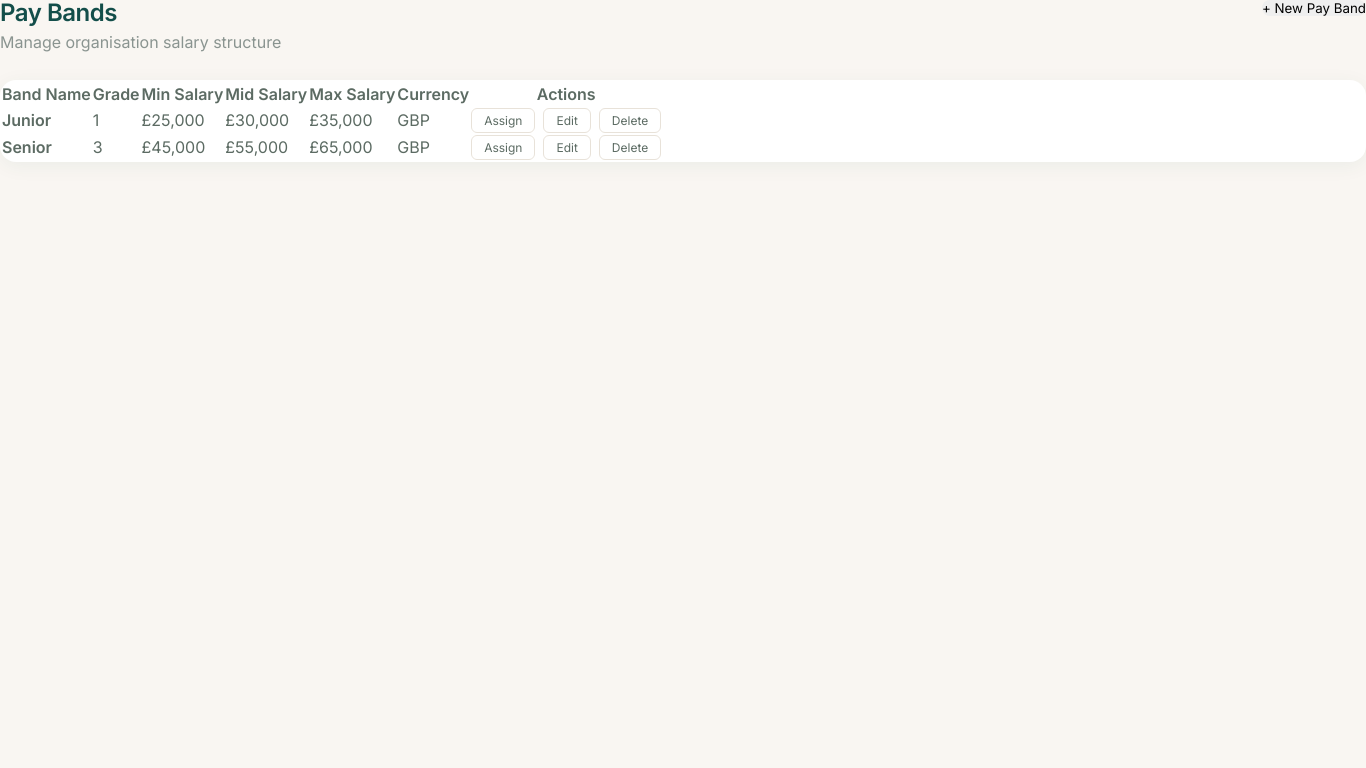
Test: PayBandManager › opens edit modal when Edit button clicked
Click the button "Edit" in the row of "Junior": point(567, 120) [544, 108, 591, 133]
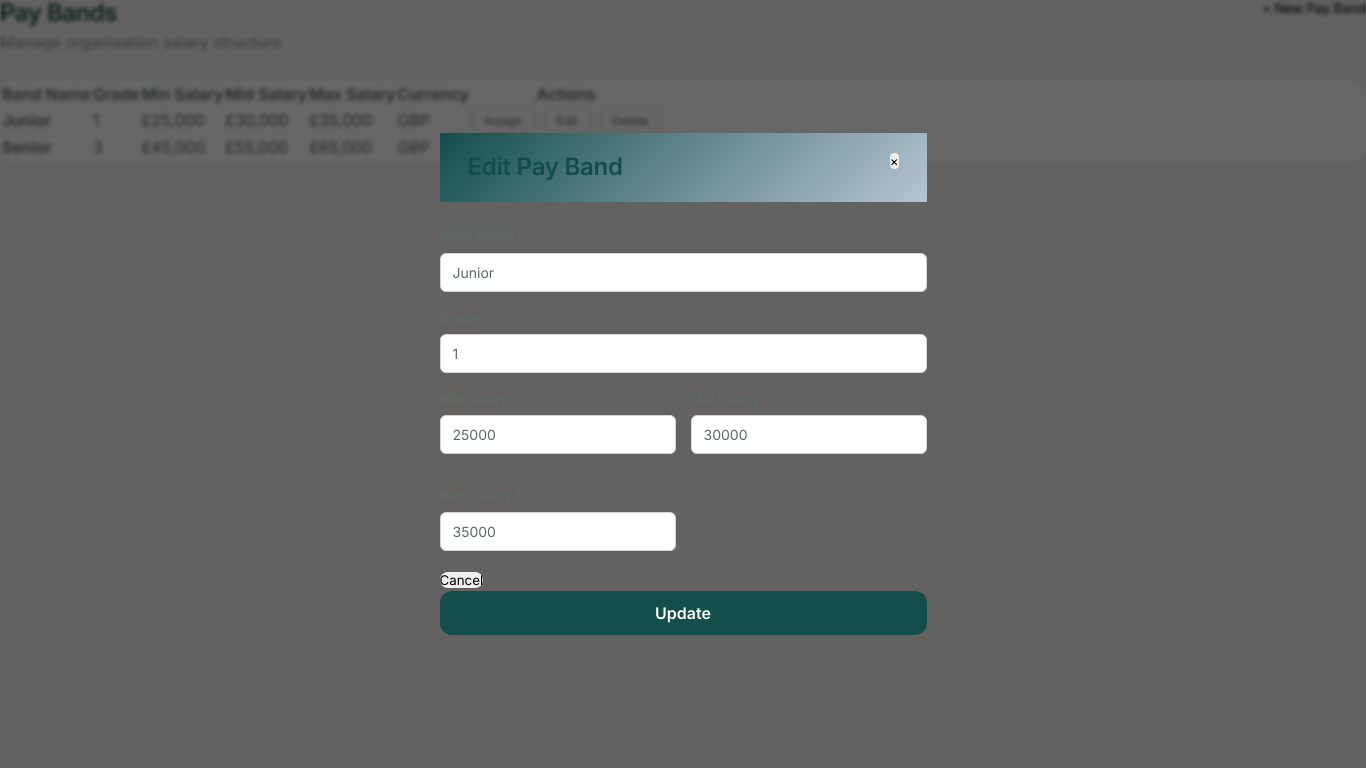
Check: the heading "Edit Pay Band" is shown, box [468, 153, 623, 182]
